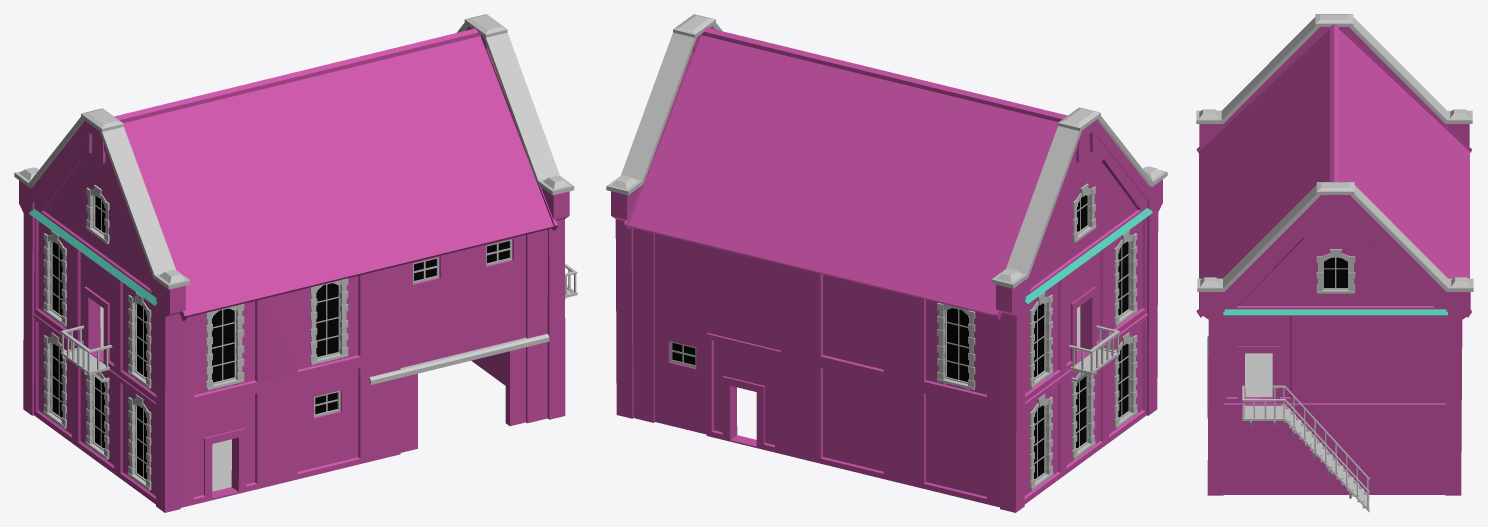
Rendered from SM_maintenance_building.fbx.
3 views of the same model, side by side, from view 1: azimuth 30°, elevation 25°; view 2: azimuth 150°, elevation 25°; view 3: azimuth 270°, elevation 25° (orthographic). The views are drawn at different scales.
Visible parts, largest first — view 1: Cube_11, Cube_10; view 2: Cube_11, Cube_10; view 3: Cube_11, Cube_10.
Boxes of the visible parts, <box> form: Cube_11: <box>14,14,577,512</box>; Cube_10: <box>114,28,557,320</box>; Cube_11: <box>606,14,1167,512</box>; Cube_10: <box>624,27,1067,319</box>; Cube_11: <box>1196,14,1473,512</box>; Cube_10: <box>1196,24,1471,317</box>.
Bounding box in the file's own units: 1859 × 1359 × 1101.
